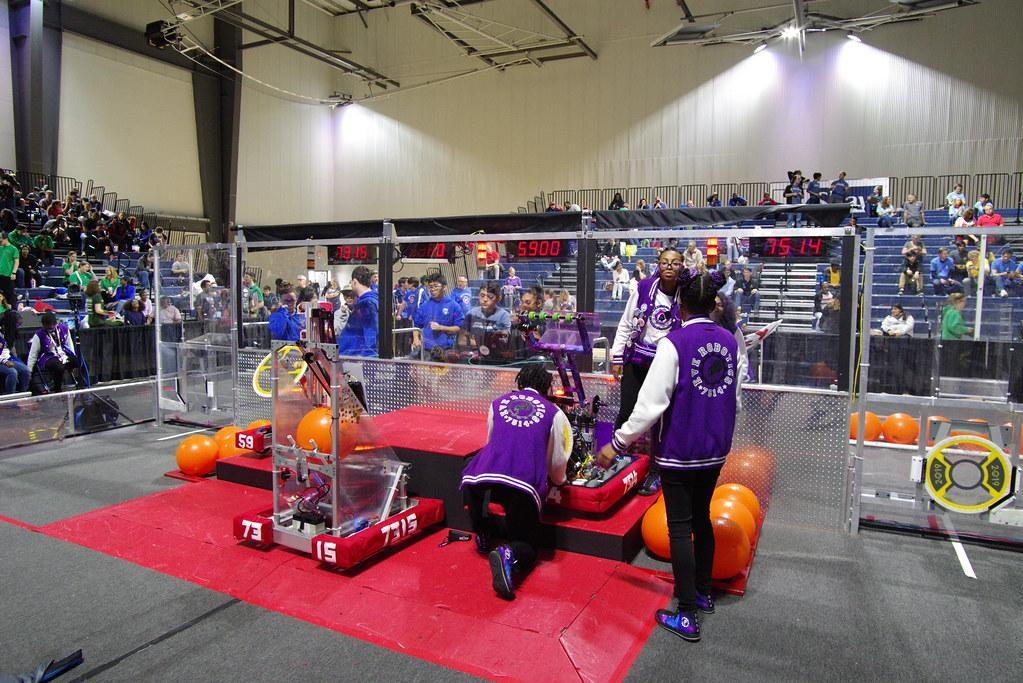robot: (233, 271, 447, 579), (483, 301, 656, 530), (229, 284, 382, 470)
